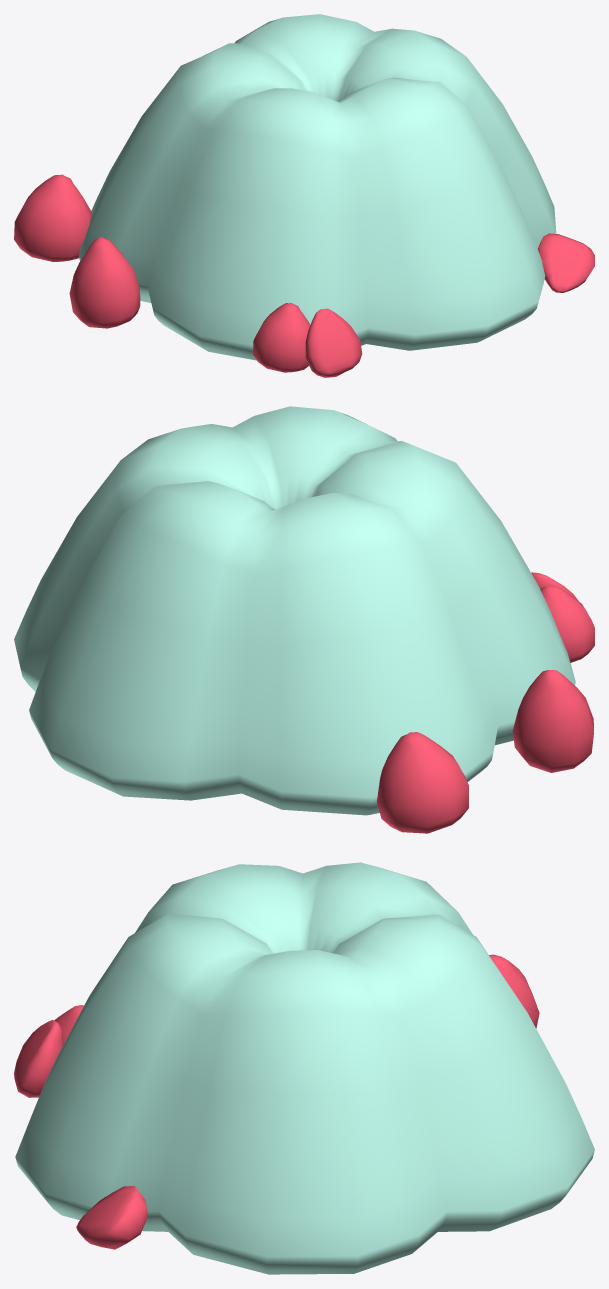
The model's file is Jello_Full.fbx.
3 renders of one model, top to bottom at view 1: azimuth 30°, elevation 25°; view 2: azimuth 150°, elevation 25°; view 3: azimuth 270°, elevation 25°, orthographic. The views are drawn at different scales.
Parts seen in each view (by area): view 1: Jello, strawberry_full1, strawberry_full2, strawberry_full, strawberry_half, strawberry_half1; view 2: Jello, strawberry_full1, strawberry_full2, strawberry_full; view 3: Jello, strawberry_half1, strawberry_half, strawberry_full1.
Part boxes in pixels (box(x1,y1,x2,y2)): Jello: box(78, 14, 556, 360); strawberry_full1: box(14, 174, 91, 261); strawberry_full2: box(69, 237, 140, 328); strawberry_full: box(253, 303, 310, 372); strawberry_half: box(305, 308, 362, 377); strawberry_half1: box(538, 233, 594, 292); Jello: box(14, 406, 575, 815); strawberry_full1: box(377, 732, 468, 833); strawberry_full2: box(512, 670, 593, 772); strawberry_full: box(540, 585, 594, 662); Jello: box(15, 862, 594, 1274); strawberry_half1: box(76, 1186, 148, 1249); strawberry_half: box(14, 1020, 63, 1097); strawberry_full1: box(489, 954, 539, 1028).
Size of the model in its own units: 613 by 260 by 556.
